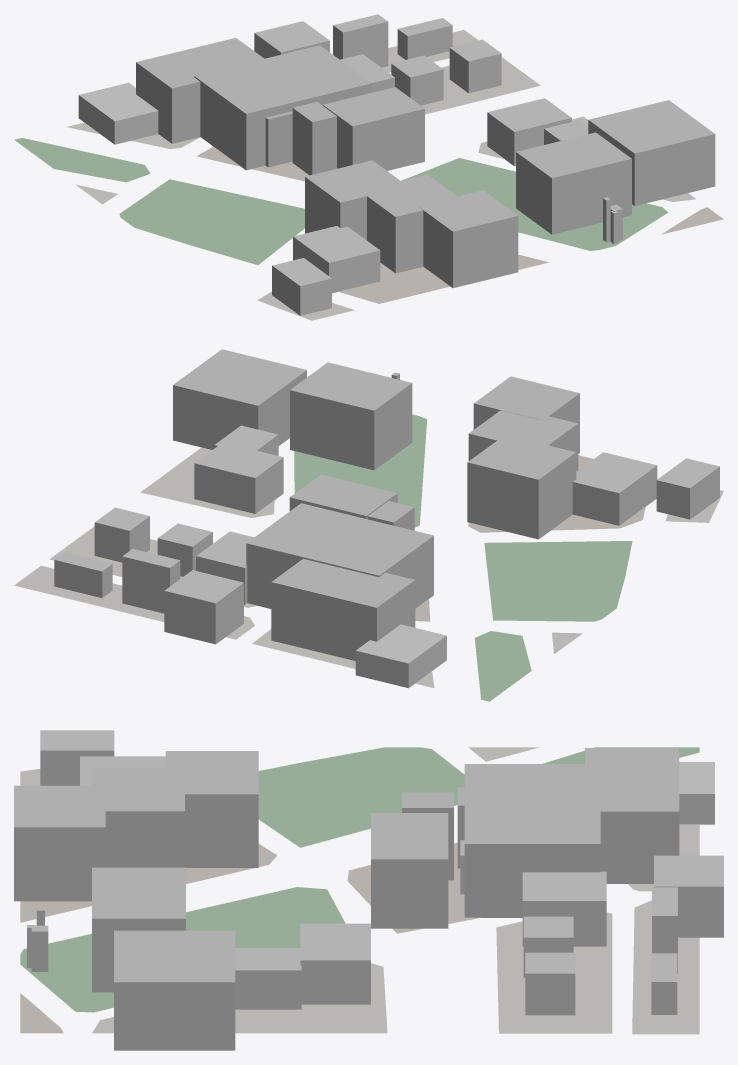
The model's file is 125_110_mid.glb.
3 renders of one model, top to bottom at view 1: azimuth 30°, elevation 25°; view 2: azimuth 150°, elevation 25°; view 3: azimuth 270°, elevation 25°, orthographic. The views are drawn at different scales.
Size of the model in its own units: 530 by 60.72 by 523.
